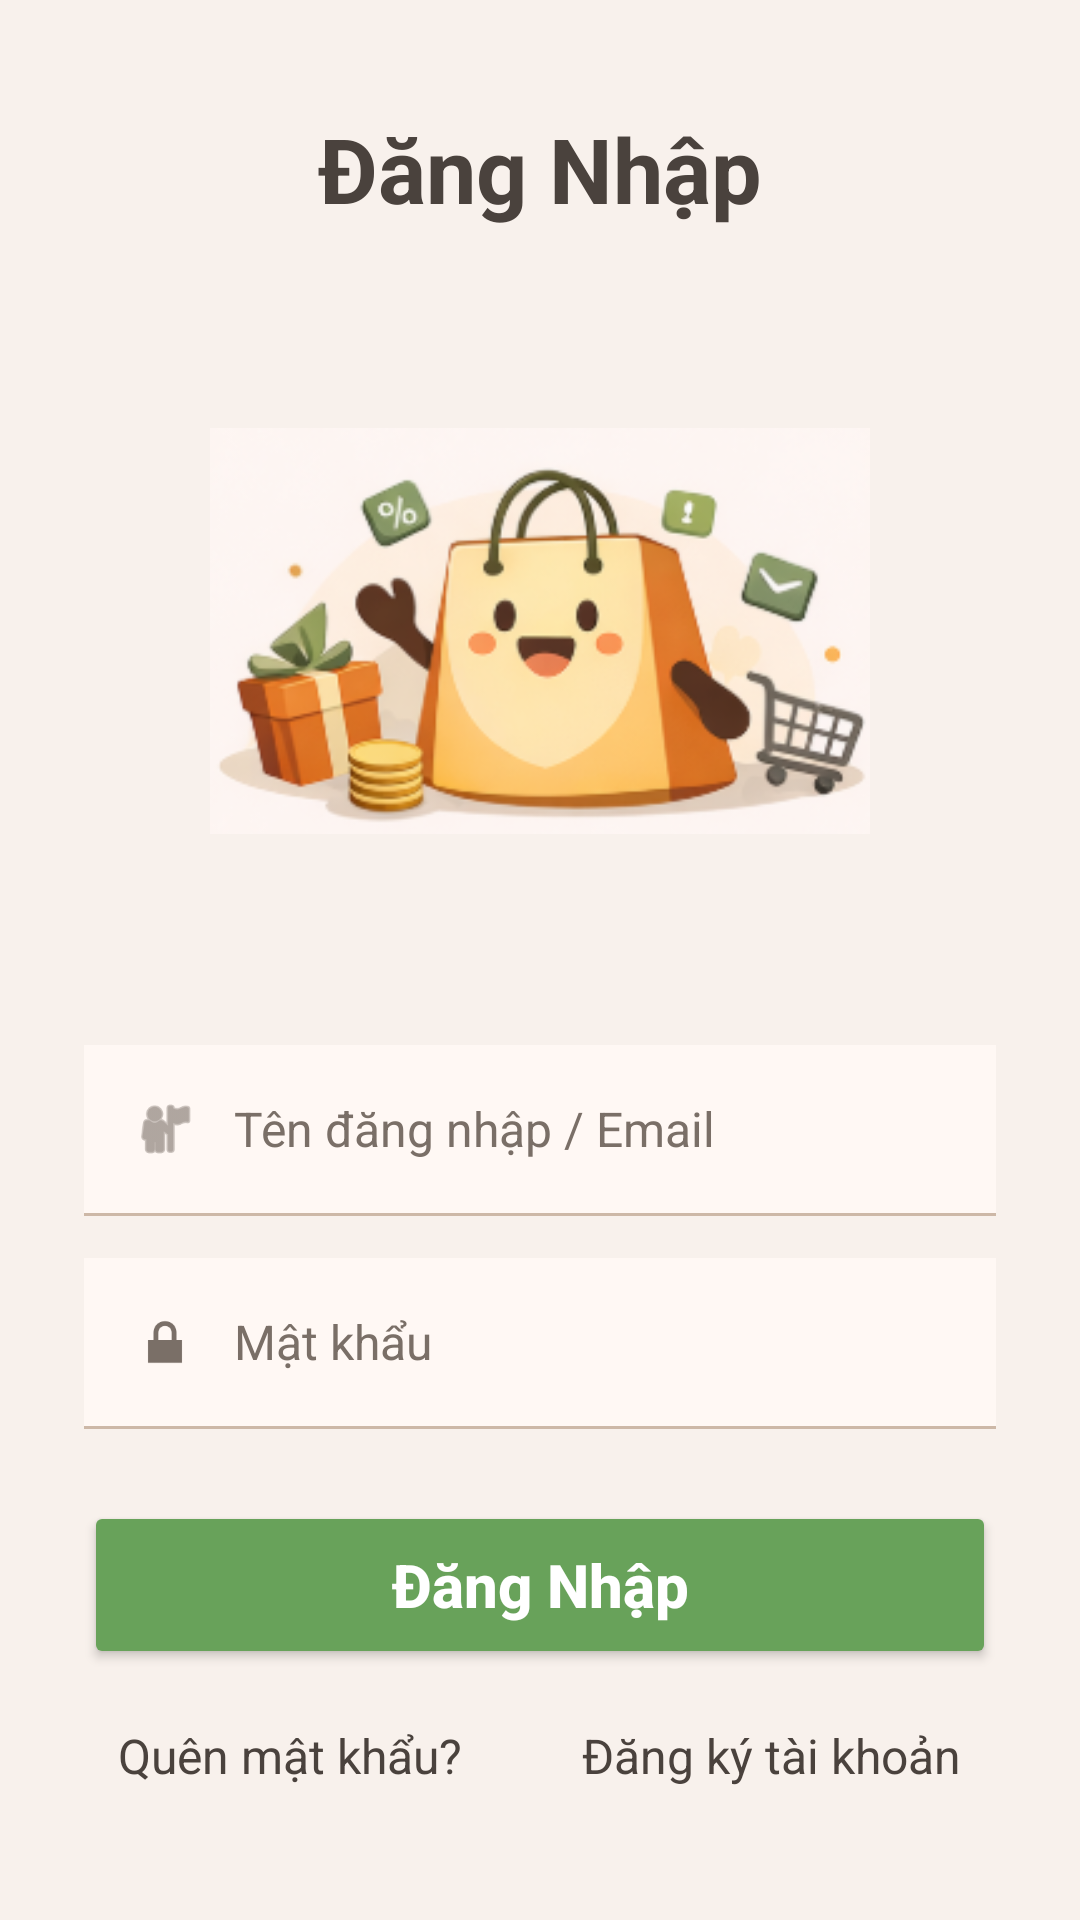

Screen size 1080w x 1920h. Icon name, then its box in pixels as detection(x1, y1, x2, y2):
password icon: detection(148, 1321, 182, 1363)
user icon: detection(141, 1105, 190, 1153)
